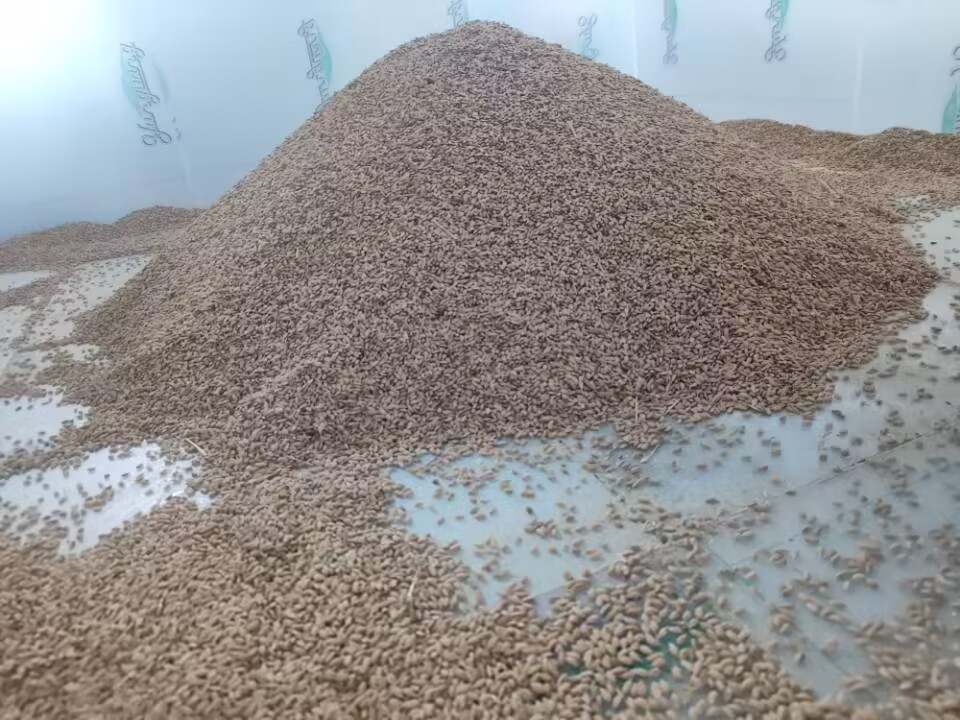Grain: (135, 0, 899, 380)
